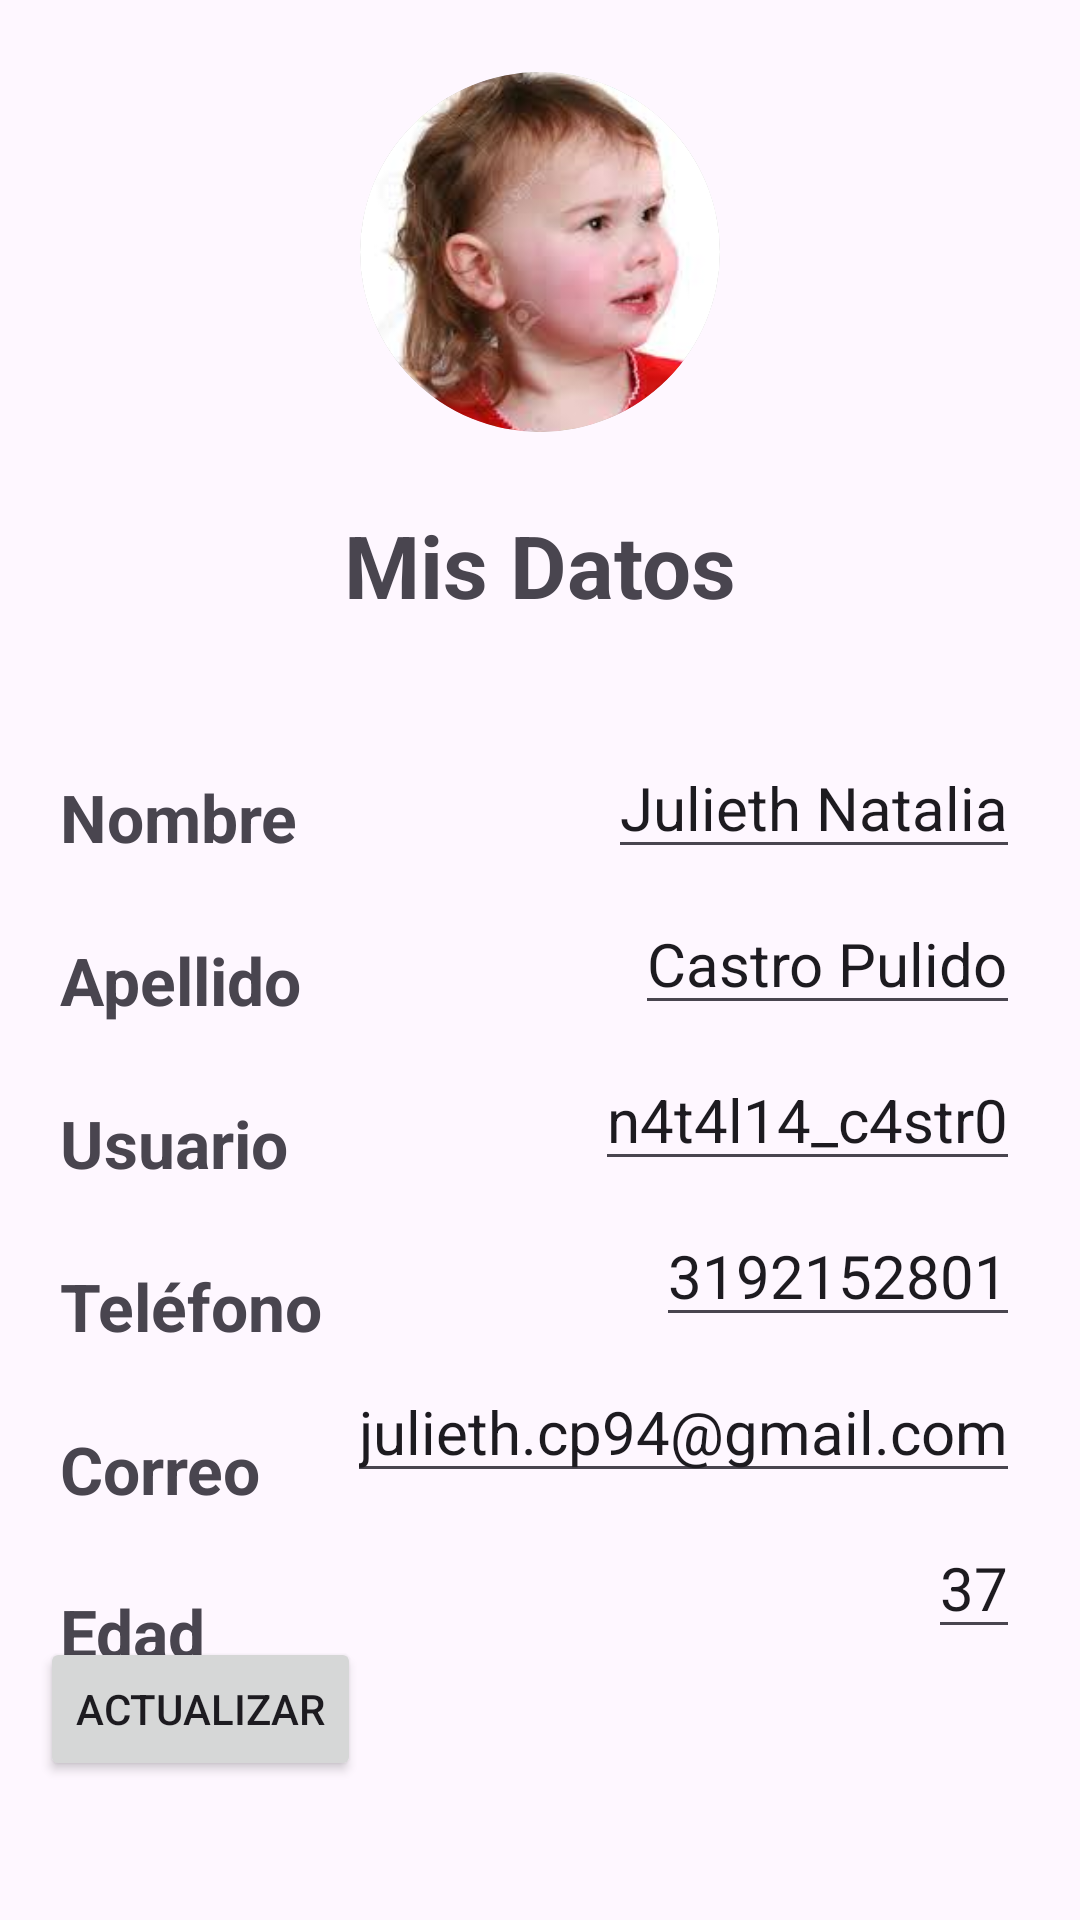

Where icons sit on this 1080*1920 app screen, as rect(x1, y1, x2, y2):
Cambiar Imagen de Perfil: rect(387, 72, 684, 432)
